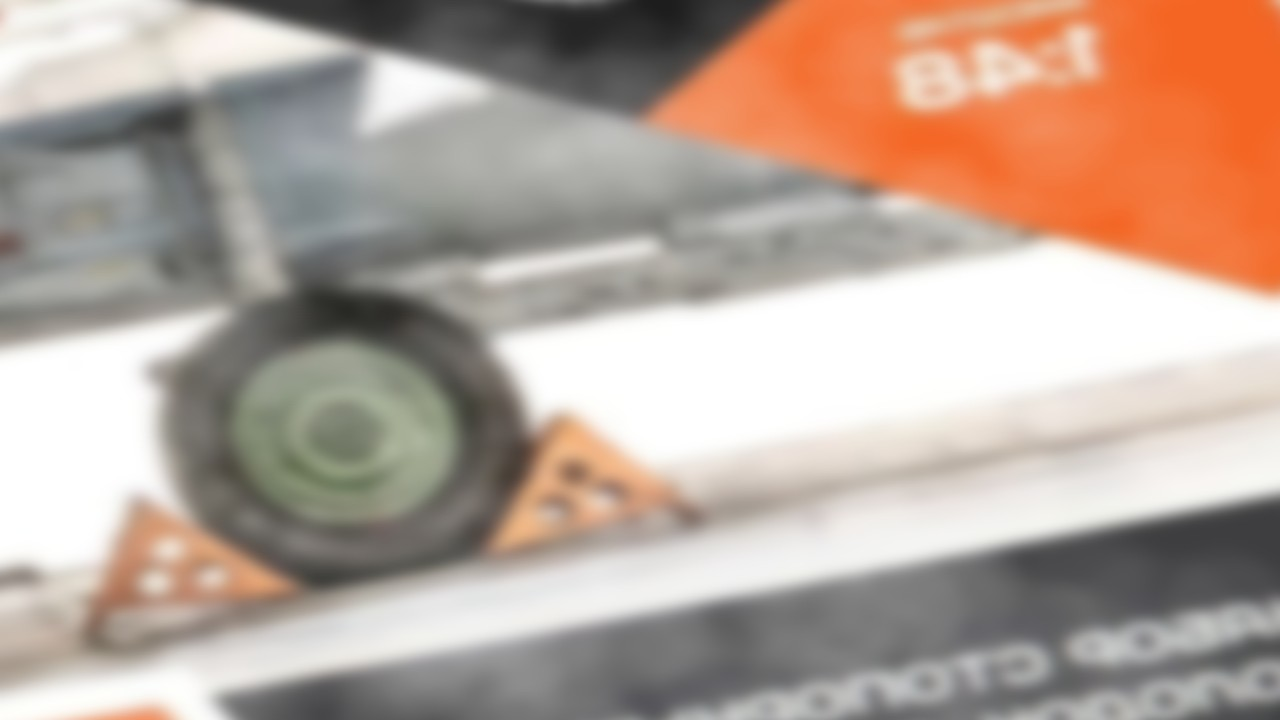chock: (45, 471, 313, 640), (445, 395, 706, 561)
wheel: (115, 249, 572, 602)
